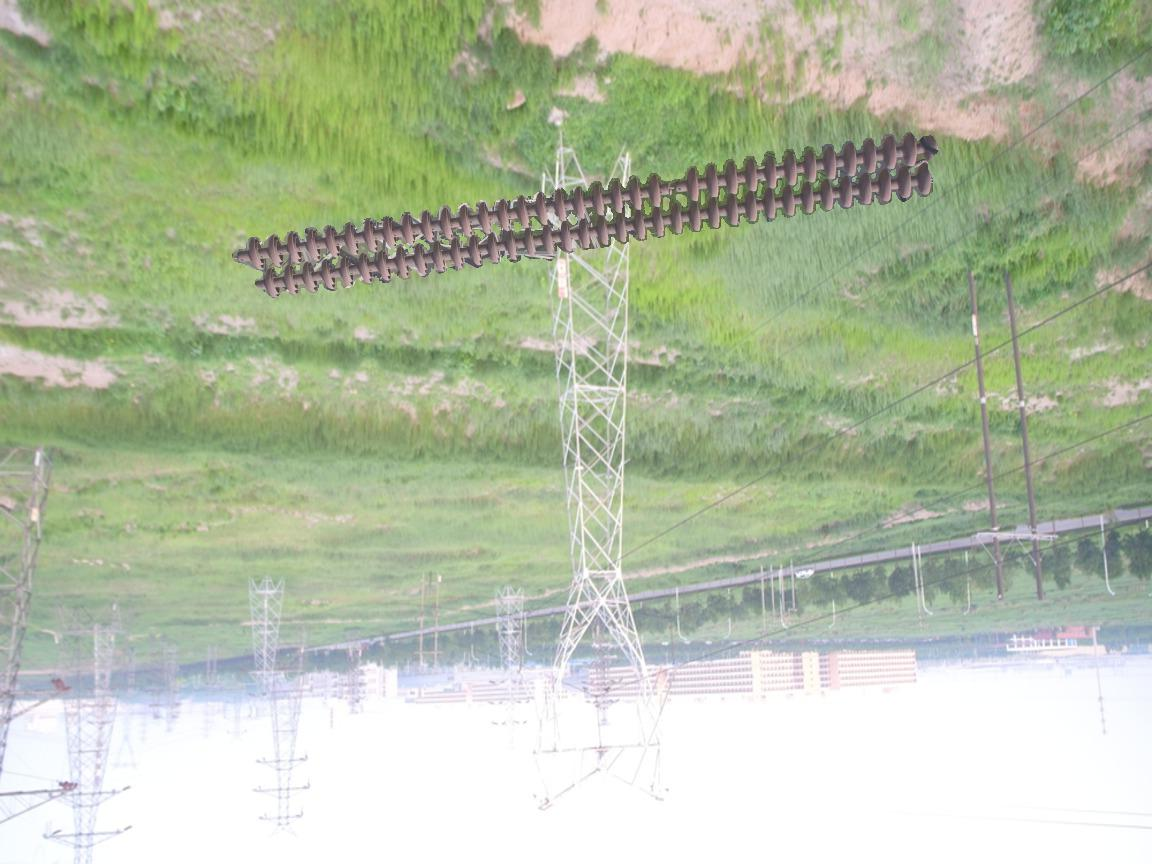insulator: (243, 125, 946, 299)
insulator_stringdrop: (646, 165, 703, 210)
